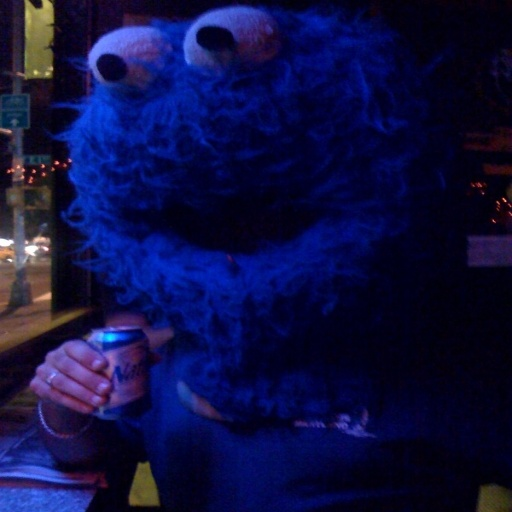hand: (23, 330, 123, 427)
